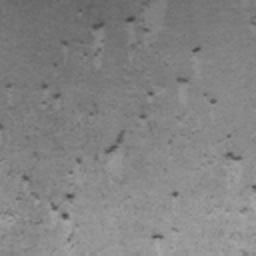Oxide scale of temperature system: (50, 46, 218, 228), (42, 15, 136, 99), (224, 152, 243, 161), (20, 174, 31, 180)
